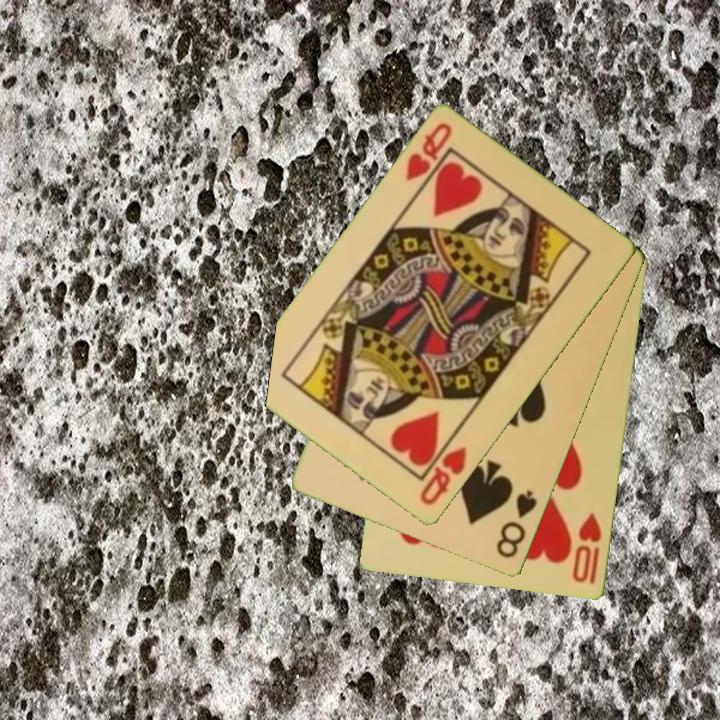10h: (569, 509, 605, 588)
8s: (493, 487, 540, 562)
Qh: (416, 443, 470, 509), (402, 120, 455, 185)
